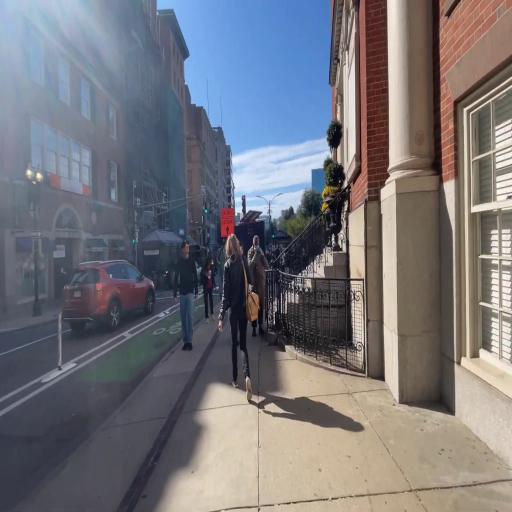Street_Light: (23, 156, 46, 318), (253, 188, 285, 238)
